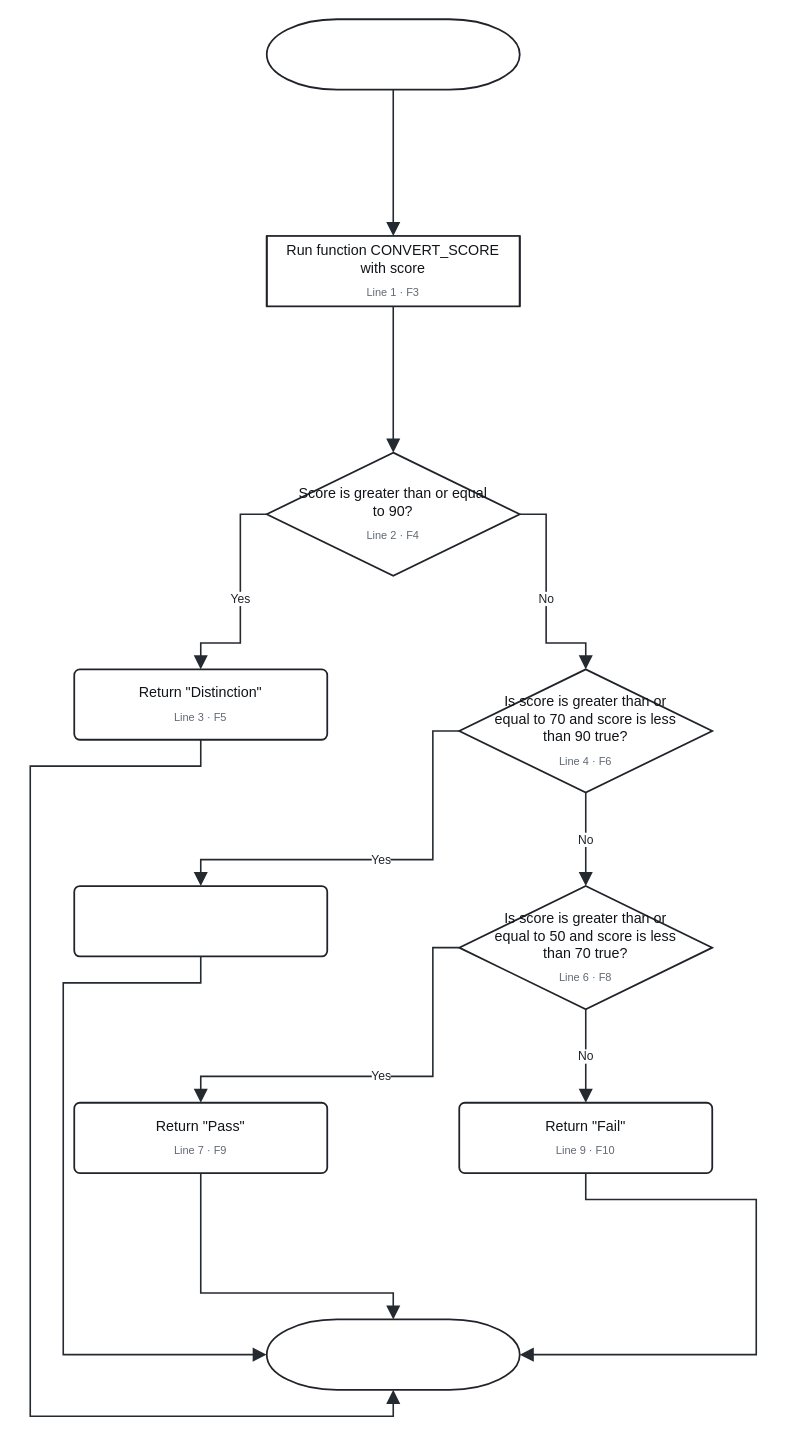
This 789x1449 diagram has some shape labels left out. Each missing label, with the centre of its shape:
End Line 1 · F2: point (392, 1354)
Return "Merit" Line 5 · F7: point (200, 921)
Start Line 1 · F1: point (392, 54)
